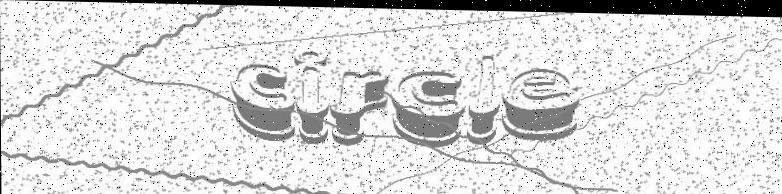c: (391, 69, 464, 145), (231, 62, 296, 140)
e: (501, 67, 580, 138)
i: (295, 50, 329, 142)
l: (469, 53, 498, 141)
r: (330, 68, 389, 145)
